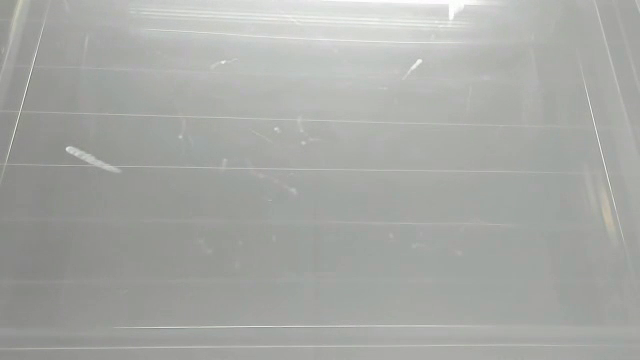alpha: (60, 142, 127, 177), (401, 55, 429, 83), (443, 1, 466, 24)
